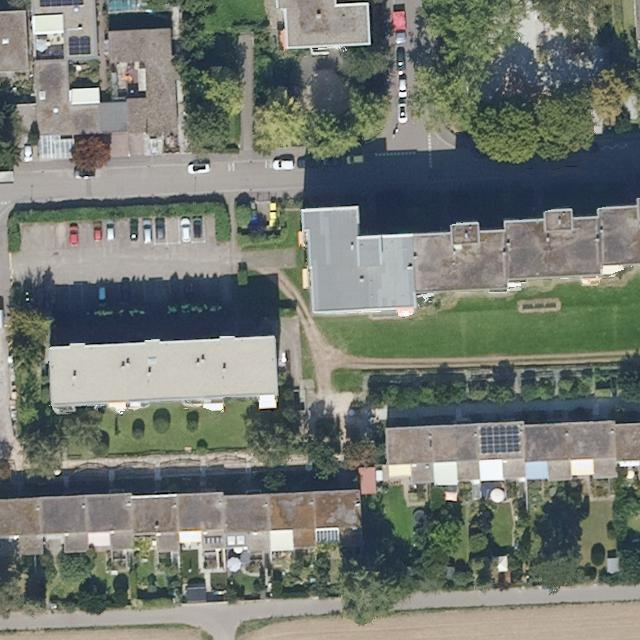PV: (478, 424, 523, 457), (68, 34, 94, 58), (38, 1, 86, 9)
